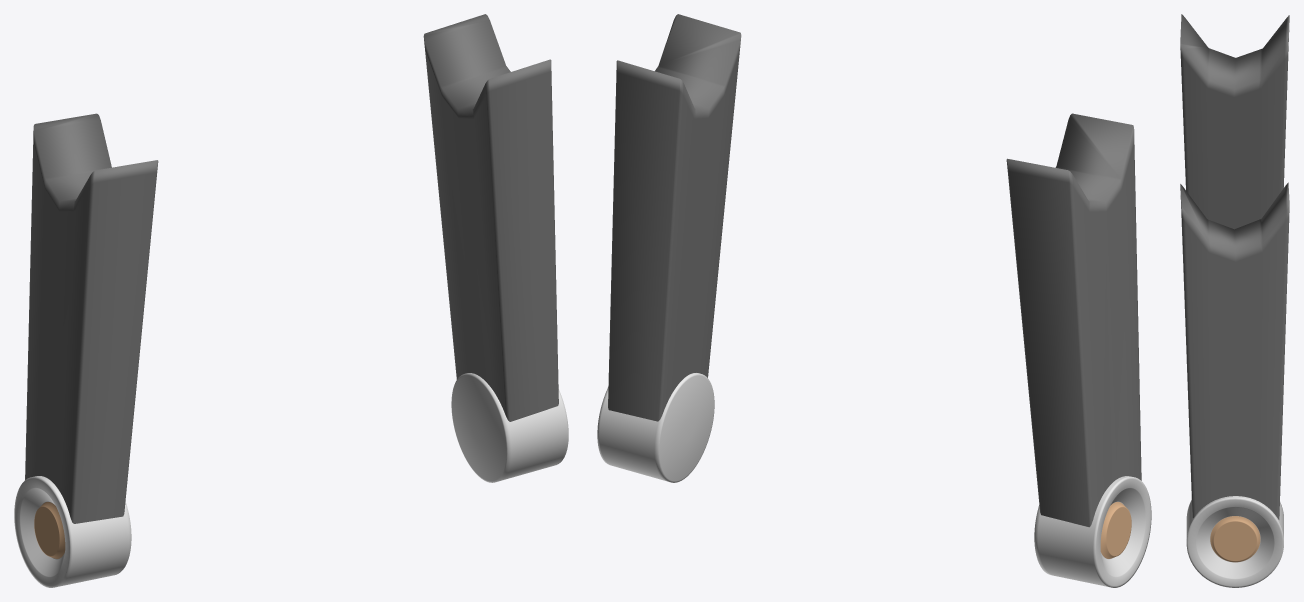
Rendered from trouble maker robot arm 1.fbx.
The picture shows the model from 3 angles, left to right: view 1: azimuth 30°, elevation 25°; view 2: azimuth 150°, elevation 25°; view 3: azimuth 270°, elevation 25°; orthographic projection. The views are drawn at different scales.
Parts seen in each view (by area): view 1: arm 1, base arm 2; view 2: arm 1, base arm 2; view 3: arm 1, base arm 2.
Boxes of the visible parts, <box> form: arm 1: <box>25,14,558,523</box>; base arm 2: <box>14,373,568,587</box>; arm 1: <box>608,14,1141,527</box>; base arm 2: <box>597,373,1151,587</box>; arm 1: <box>1180,14,1289,519</box>; base arm 2: <box>1186,496,1283,587</box>.
Size of the model in its own units: 4.52 by 3.73 by 0.9895.
